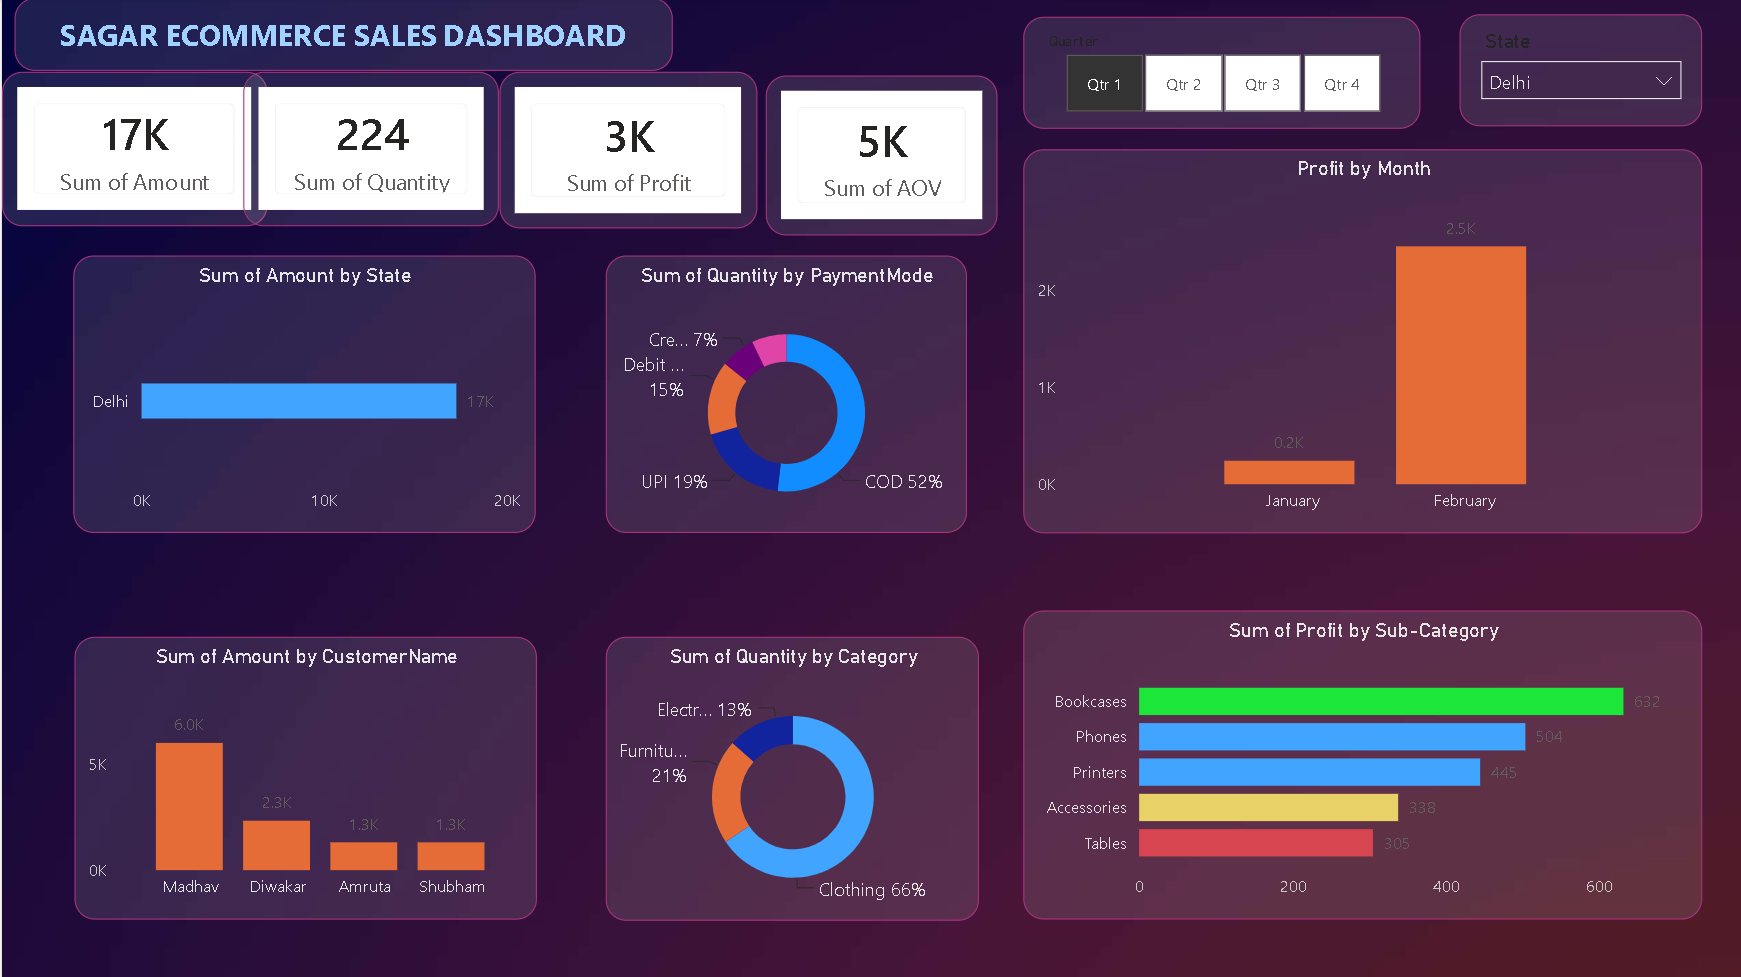

The page's visual inventory and layout, read from the dashboard file:
{"tool":"powerbi","page":{"name":"Page 1","canvas":[1280,720],"ordinal":0},"visuals":[{"type":"textbox","box":[9.6,0,484.4,53.5],"z":0},{"type":"columnChart","title":" Profit by Month","fields":{"Category":["Orders.Order Date.Variation.Date Hierarchy.Month"],"Y":["Sum(Details.Profit)"]},"box":[751.1,111,499.5,282.7],"z":1000},{"type":"clusteredBarChart","fields":{"Category":["Details.Sub-Category"],"Y":["Sum(Details.Profit)"]},"box":[751.1,450.7,499.4,227.4],"z":2000},{"type":"donutChart","fields":{"Category":["Details.Category"],"Y":["Sum(Details.Quantity)"]},"box":[443.9,469.6,274.7,208.4],"z":3000},{"type":"donutChart","fields":{"Category":["Details.PaymentMode","Details.Category"],"Y":["Sum(Details.Quantity)"]},"box":[443.9,189.5,265.3,204.4],"z":4000},{"type":"cardVisual","fields":{"Data":["Sum(Details.Amount)"]},"box":[0,54.1,194.9,113.7],"z":5000},{"type":"cardVisual","fields":{"Data":["Sum(Details.Quantity)"]},"box":[177.3,54.1,188.1,113.7],"z":6000},{"type":"cardVisual","fields":{"Data":["Sum(Details.Profit)"]},"box":[365.4,54.1,189.5,115],"z":7000},{"type":"cardVisual","fields":{"Data":["Sum(Details.AOV)"]},"box":[561.6,56.8,170.5,117.7],"z":8000},{"type":"clusteredBarChart","fields":{"Category":["Orders.State"],"Y":["Sum(Details.Amount)"]},"box":[52.8,189.5,339.7,204.4],"z":9000},{"type":"columnChart","fields":{"Category":["Orders.CustomerName"],"Y":["Sum(Details.Amount)"]},"box":[53,470,340,208],"z":10000},{"type":"slicer","fields":{"Values":["Orders.Order Date.Variation.Date Hierarchy.Quarter"]},"box":[751.1,13.5,292.3,82.6],"z":11000},{"type":"slicer","fields":{"Values":["Orders.State"]},"box":[1071.9,12.2,178.6,82.6],"z":11001}]}

Visuals, with their boxes in screenshot pixels (x1, y1, x2, y2), scaled from the page's 1280x720 canvas onto the 1741x977 screenshot:
textbox: bbox(13, 0, 672, 73)
" Profit by Month" columnChart: bbox(1022, 151, 1701, 534)
clusteredBarChart - Details.Sub-Category x Sum(Details.Profit): bbox(1022, 612, 1701, 920)
donutChart - Details.Category x Sum(Details.Quantity): bbox(604, 637, 977, 920)
donutChart - Details.PaymentMode x Details.Category: bbox(604, 257, 965, 535)
cardVisual - Sum(Details.Amount): bbox(0, 73, 265, 228)
cardVisual - Sum(Details.Quantity): bbox(241, 73, 497, 228)
cardVisual - Sum(Details.Profit): bbox(497, 73, 755, 229)
cardVisual - Sum(Details.AOV): bbox(764, 77, 996, 237)
clusteredBarChart - Orders.State x Sum(Details.Amount): bbox(72, 257, 534, 535)
columnChart - Orders.CustomerName x Sum(Details.Amount): bbox(72, 638, 535, 920)
slicer - Orders.Order Date.Variation.Date Hierarchy.Quarter: bbox(1022, 18, 1419, 130)
slicer - Orders.State: bbox(1458, 17, 1701, 129)
